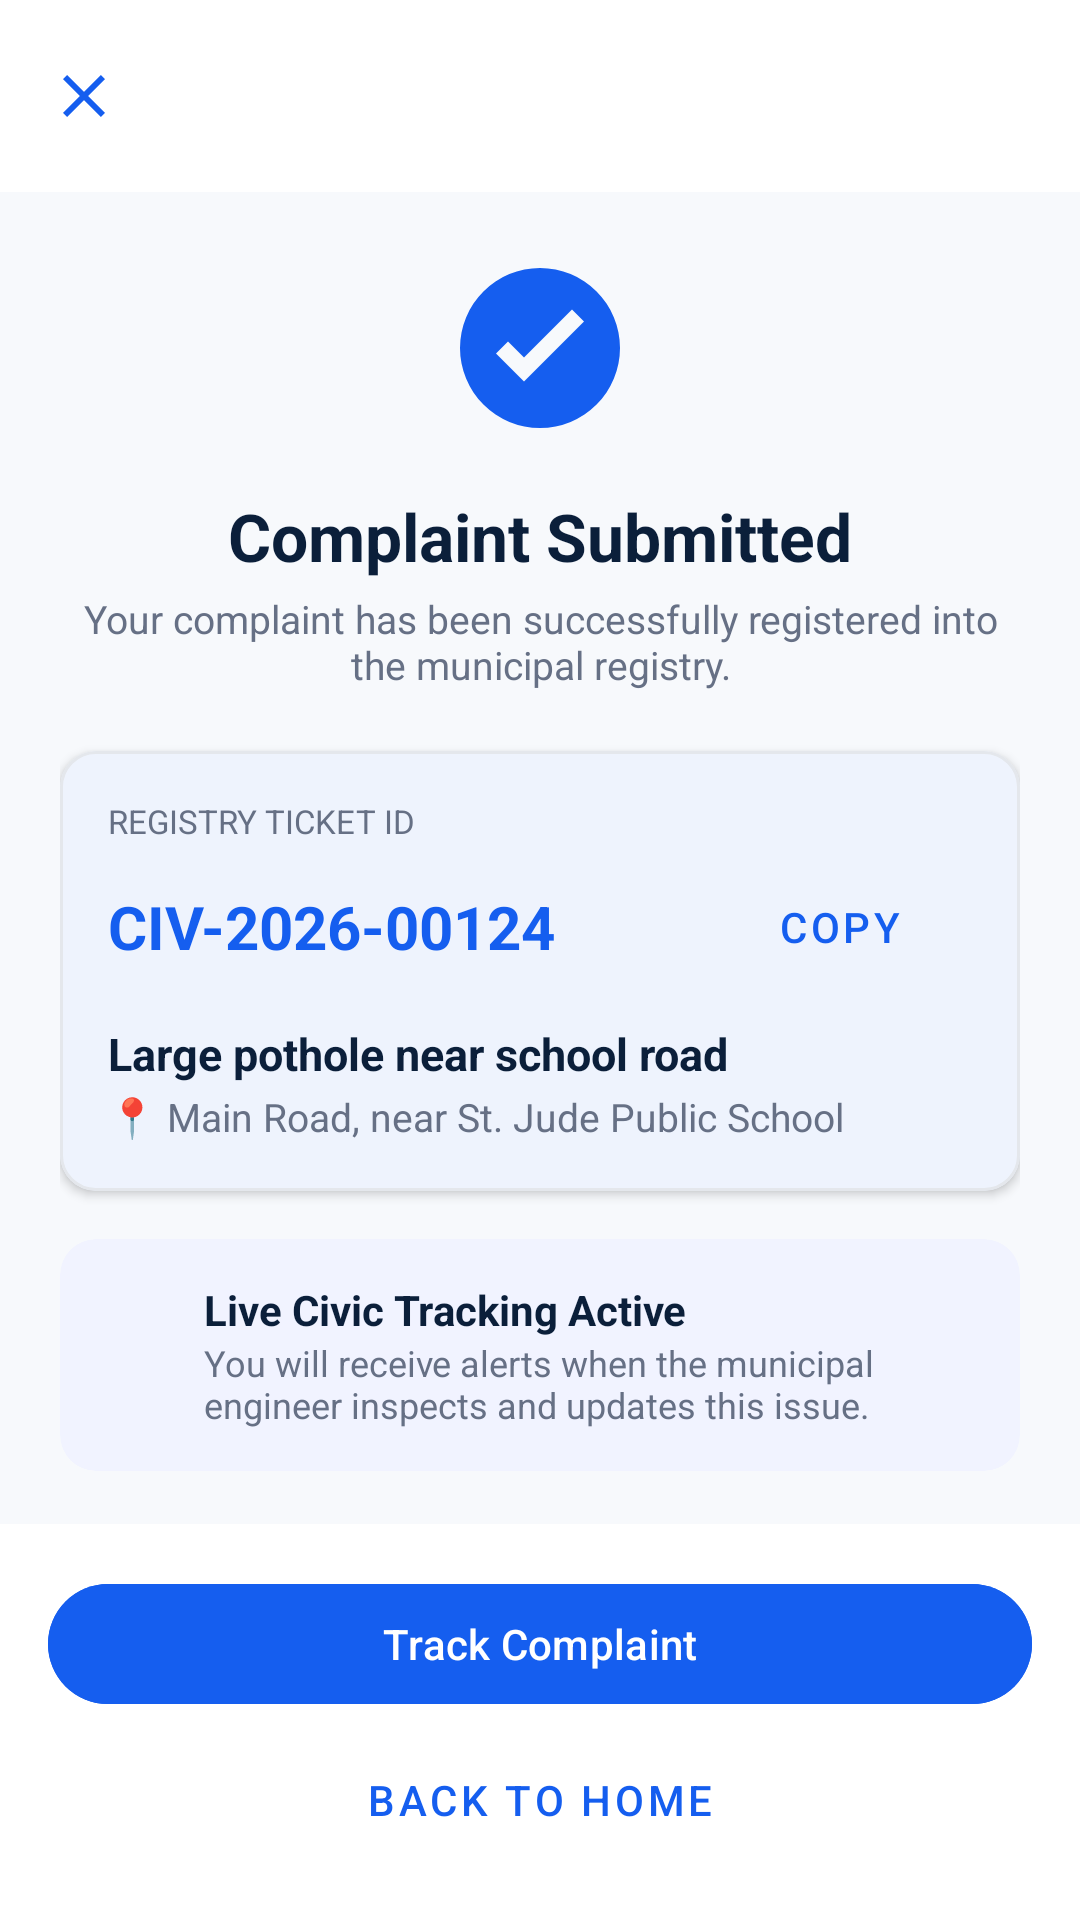

Named icons in this screenshot (1080w x 1920h) and their bounding boxes, box=[x1, y1, x2, y2]:
check circle: box=[460, 268, 620, 428]
